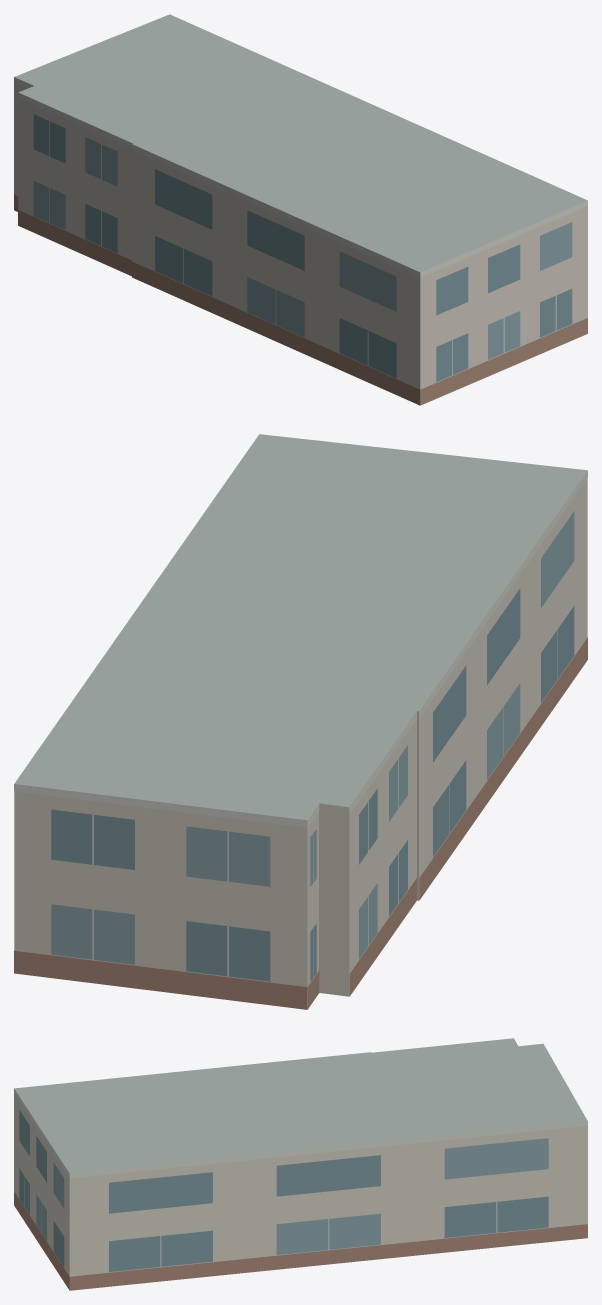
The model's file is survey-upis-32999623.glb.
3 views of the same model, one above another, from view 1: azimuth 30°, elevation 25°; view 2: azimuth 150°, elevation 25°; view 3: azimuth 270°, elevation 25° (orthographic). The views are drawn at different scales.
Parts seen in each view (by area): view 1: survey-upis-32999623.tmp; view 2: survey-upis-32999623.tmp; view 3: survey-upis-32999623.tmp.
Part boxes in pixels (<box>): survey-upis-32999623.tmp: <box>14,14,587,405</box>; survey-upis-32999623.tmp: <box>14,434,587,1009</box>; survey-upis-32999623.tmp: <box>14,1038,587,1290</box>.
Size of the model in its own units: 15.17 by 6.1 by 27.13.
